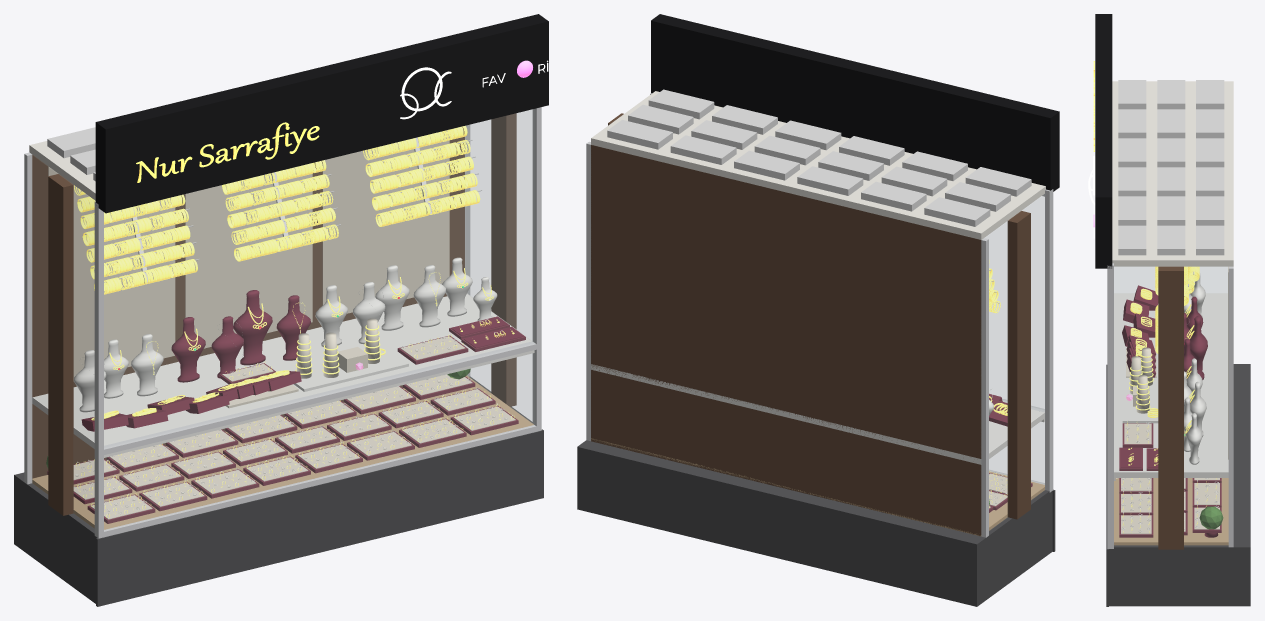
Rendered from nur_vitrin.glb.
The picture shows the model from 3 angles, left to right: view 1: azimuth 30°, elevation 25°; view 2: azimuth 150°, elevation 25°; view 3: azimuth 270°, elevation 25°; orthographic projection. The views are drawn at different scales.
Parts seen in each view (by area): view 1: ar_cam, ar_tabela, ar_granit, ar_krem_lake, ar_ceviz, ar_krem, ar_alu, ar_beyaz_lake, ar_altin22, ar_bordo_lake, ar_bordo, ar_beyaz_kadife (+11 smaller); view 2: ar_ceviz, ar_granit, ar_tabela, _tavan_kesici, ar_cam, tavan, ar_alu, ar_beyaz_lake, alt_zemin; view 3: ar_cam, _tavan_kesici, ar_granit, ar_beyaz_lake, tavan, ar_ceviz, ar_tabela, ar_krem, ar_alu, ar_bordo, alt_zemin, ar_beyaz_kadife (+8 smaller).
Part boxes in pixels (<box>): ar_cam: <box>32,109,534,529</box>; ar_tabela: <box>95,14,548,213</box>; ar_granit: <box>14,376,543,606</box>; ar_krem_lake: <box>48,130,449,379</box>; ar_ceviz: <box>32,113,516,515</box>; ar_krem: <box>73,318,515,519</box>; ar_alu: <box>24,107,541,538</box>; ar_beyaz_lake: <box>32,293,534,457</box>; ar_altin22: <box>74,129,514,404</box>; ar_bordo_lake: <box>47,316,525,523</box>; ar_bordo: <box>81,290,523,431</box>; ar_beyaz_kadife: <box>73,257,497,412</box>; ar_ceviz: <box>591,113,1030,535</box>; ar_granit: <box>577,440,1055,606</box>; ar_tabela: <box>651,14,1059,191</box>; _tavan_kesici: <box>607,89,1031,226</box>; ar_cam: <box>985,195,1044,526</box>; tavan: <box>591,91,1045,239</box>; ar_alu: <box>586,93,1053,537</box>; ar_beyaz_lake: <box>591,364,1044,464</box>; alt_zemin: <box>591,438,1044,536</box>; ar_cam: <box>1114,267,1227,541</box>; _tavan_kesici: <box>1118,80,1224,255</box>; ar_granit: <box>1106,364,1250,606</box>; ar_beyaz_lake: <box>1114,293,1228,480</box>; tavan: <box>1112,81,1233,266</box>; ar_ceviz: <box>1158,266,1183,549</box>; ar_tabela: <box>1095,14,1112,268</box>; ar_krem: <box>1121,347,1219,534</box>; ar_alu: <box>1107,263,1233,548</box>; ar_bordo: <box>1120,285,1207,467</box>; alt_zemin: <box>1114,478,1228,545</box>; ar_beyaz_kadife: <box>1184,273,1206,464</box>.
Size of the model in its own units: 2.6 by 2.64 by 0.9511.
